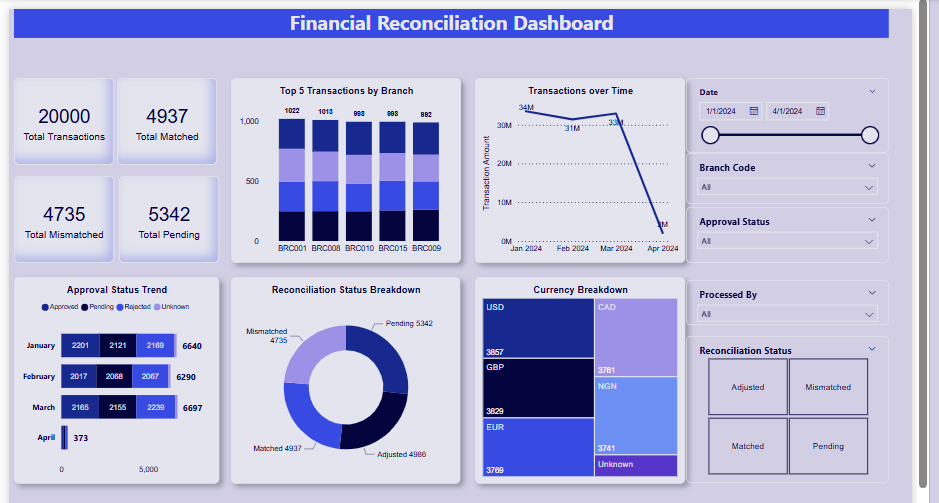

The dashboard page shown, as its layout file describes it:
{"tool":"powerbi","page":{"name":"Page 2","canvas":[1280,720],"ordinal":0},"visuals":[{"type":"lineChart","title":"Transactions over Time","fields":{"Category":["cleaned financial reconciliation dataset.Month Year.Variation.Date Hierarchy.Year","cleaned financial reconciliation dataset.Month Year.Variation.Date Hierarchy.Month"],"Y":["Sum(cleaned financial reconciliation dataset.Amount)"]},"box":[660.6,97.8,297.7,262.2],"z":0},{"type":"card","fields":{"Values":["CountNonNull(cleaned financial reconciliation dataset.Transaction ID)"]},"box":[7.1,97.8,141.7,123.3],"z":1000},{"type":"card","fields":{"Values":["cleaned financial reconciliation dataset.Total Matched"]},"box":[153.1,97.8,141.7,123.3],"z":2000},{"type":"card","fields":{"Values":["cleaned financial reconciliation dataset.Total Mismatched"]},"box":[7.1,236.7,141.7,123.3],"z":3000},{"type":"card","fields":{"Values":["cleaned financial reconciliation dataset.Total Pending"]},"box":[155.9,236.7,141.7,123.3],"z":4000},{"type":"textbox","title":"Financial Reconciliation Dashboard","box":[7.1,0,1240.3,42.5],"z":5000},{"type":"columnChart","title":"Top 5 Transactions by Branch","fields":{"Category":["cleaned financial reconciliation dataset.Branch Code"],"Y":["CountNonNull(cleaned financial reconciliation dataset.Transaction ID)"],"Series":["cleaned financial reconciliation dataset.Reconciliation Status"]},"box":[314.7,97.8,326,262.2],"z":6000},{"type":"donutChart","title":"Reconciliation Status Breakdown","fields":{"Category":["cleaned financial reconciliation dataset.Reconciliation Status"],"Y":["CountNonNull(cleaned financial reconciliation dataset.Transaction ID)"]},"box":[314.7,379.9,324.6,293.4],"z":7000},{"type":"barChart","title":"Approval Status Trend","fields":{"Category":["cleaned financial reconciliation dataset.Month Year.Variation.Date Hierarchy.Month"],"Series":["cleaned financial reconciliation dataset.Approval Status"],"Y":["CountNonNull(cleaned financial reconciliation dataset.Transaction ID)"]},"box":[7.1,379.9,290.6,293.4],"z":8000},{"type":"treemap","title":"Currency Breakdown","fields":{"Group":["cleaned financial reconciliation dataset.Currency"],"Values":["CountNonNull(cleaned financial reconciliation dataset.Transaction ID)"]},"box":[661,380,298,293],"z":10000},{"type":"slicer","fields":{"Values":["cleaned financial reconciliation dataset.Date"]},"box":[959.6,97.8,287.8,106.3],"z":11000},{"type":"slicer","fields":{"Values":["cleaned financial reconciliation dataset.Branch Code"]},"box":[959.6,204.1,287.8,72.3],"z":12000},{"type":"slicer","fields":{"Values":["cleaned financial reconciliation dataset.Approval Status"]},"box":[959.6,280.7,287.8,79.4],"z":13000},{"type":"slicer","fields":{"Values":["cleaned financial reconciliation dataset.Reconciliation Status"]},"box":[959.6,463.5,287.8,208.4],"z":14000},{"type":"slicer","fields":{"Values":["cleaned financial reconciliation dataset.Processed By"]},"box":[960,384,288,64],"z":15000}]}

Visuals, with their boxes on the page's 1280x720 design canvas (x1, y1, x2, y2). These are canvas units, not pixel positions in the 939x503 screenshot, which may show the page scaled, cropped or inside an application window:
"Transactions over Time" lineChart: region(661, 98, 958, 360)
card - CountNonNull(cleaned financial reconciliation dataset.Transaction ID): region(7, 98, 149, 221)
card - cleaned financial reconciliation dataset.Total Matched: region(153, 98, 295, 221)
card - cleaned financial reconciliation dataset.Total Mismatched: region(7, 237, 149, 360)
card - cleaned financial reconciliation dataset.Total Pending: region(156, 237, 298, 360)
"Financial Reconciliation Dashboard" textbox: region(7, 0, 1247, 42)
"Top 5 Transactions by Branch" columnChart: region(315, 98, 641, 360)
"Reconciliation Status Breakdown" donutChart: region(315, 380, 639, 673)
"Approval Status Trend" barChart: region(7, 380, 298, 673)
"Currency Breakdown" treemap: region(661, 380, 959, 673)
slicer - cleaned financial reconciliation dataset.Date: region(960, 98, 1247, 204)
slicer - cleaned financial reconciliation dataset.Branch Code: region(960, 204, 1247, 276)
slicer - cleaned financial reconciliation dataset.Approval Status: region(960, 281, 1247, 360)
slicer - cleaned financial reconciliation dataset.Reconciliation Status: region(960, 464, 1247, 672)
slicer - cleaned financial reconciliation dataset.Processed By: region(960, 384, 1248, 448)
